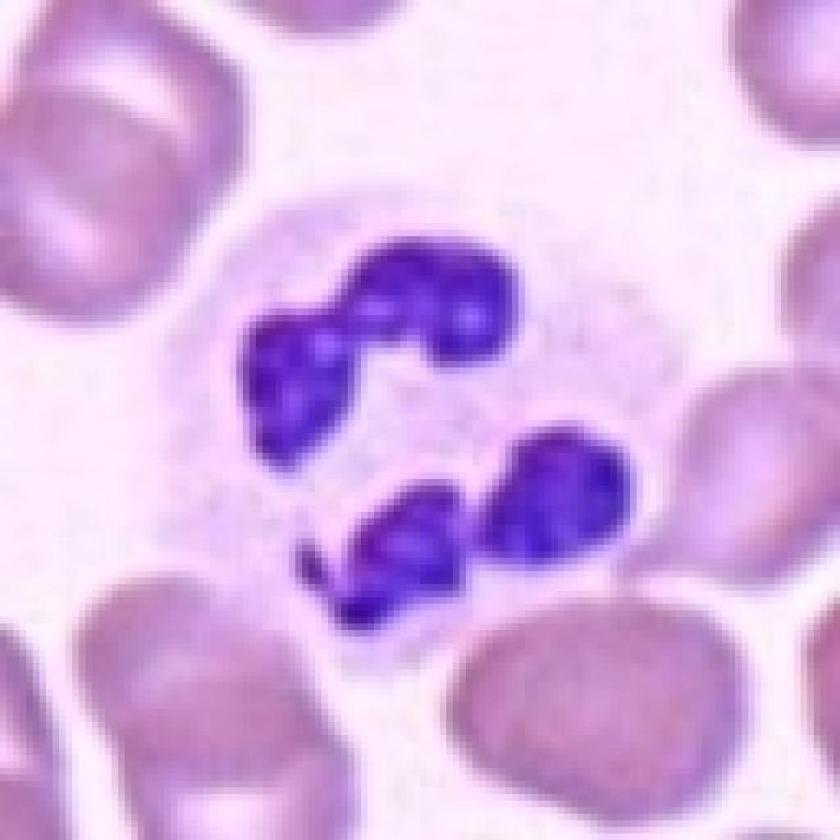neutrophil: (60, 151, 672, 677)
